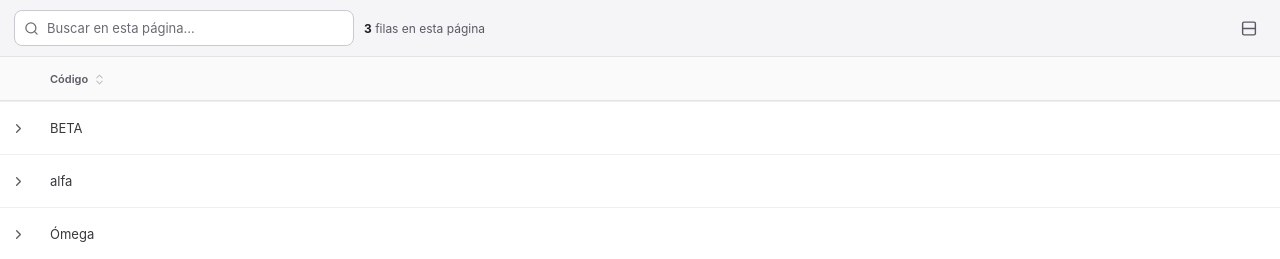
Scenario: DataTable › reserva las columnas marcadas como detalle para la fila desplegada
Expected: the column heading "Responsable" is not shown
Sigue siendo buscable, y al desplegar aparece con su valor.
Type "fraude" into the search field named "Buscar en las filas cargadas".
click(184, 28); type("fraude")  # box [14,10,354,46]
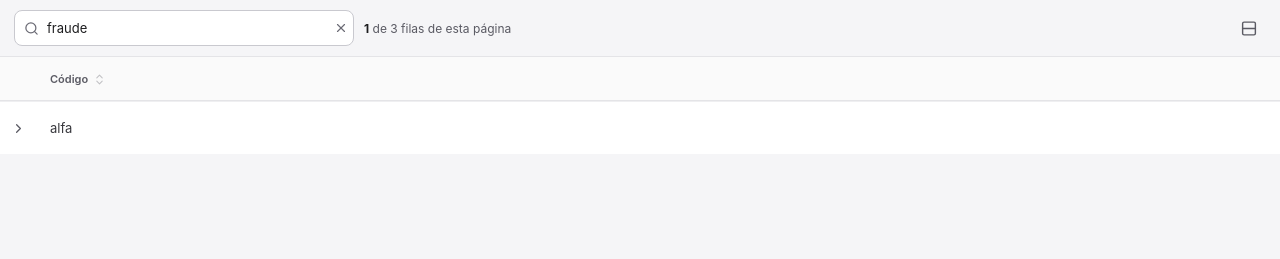
Result: the number of rows is 2 at [0,57,1279,102]; [0,102,1279,154]
Click the button named "Ver el detalle completo".
click(17, 128)  # box [4,115,30,141]
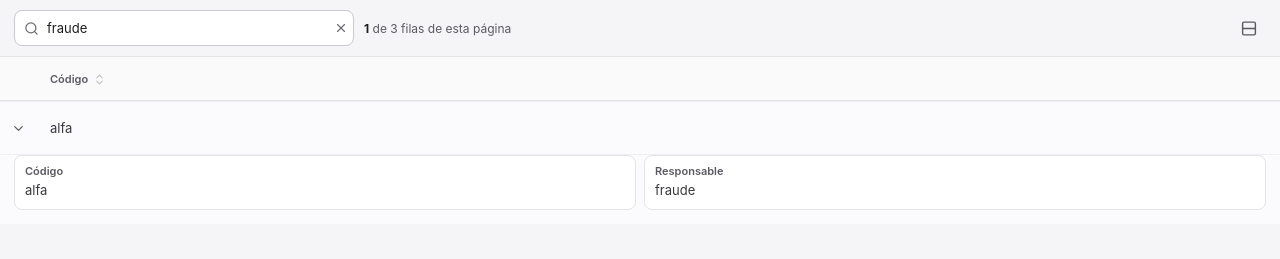
Result: the text "Responsable" is shown at [655,164,724,178]
Result: the text "fraude" is shown at [655,182,695,198]
